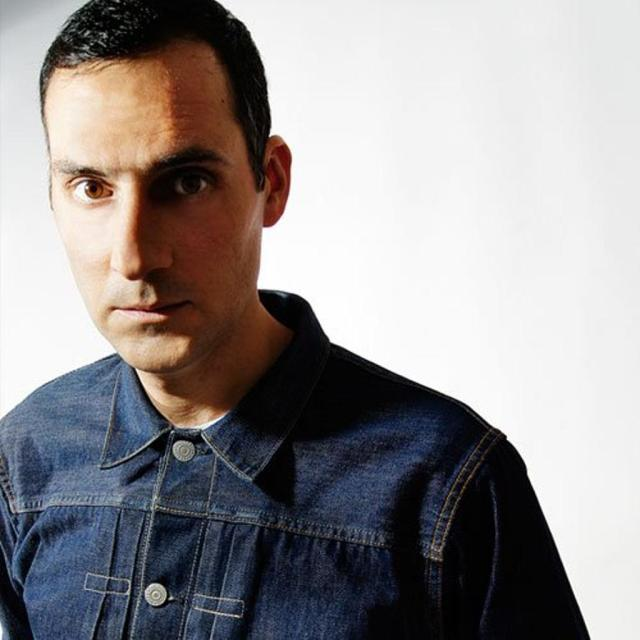Face: (36, 58, 266, 385)
